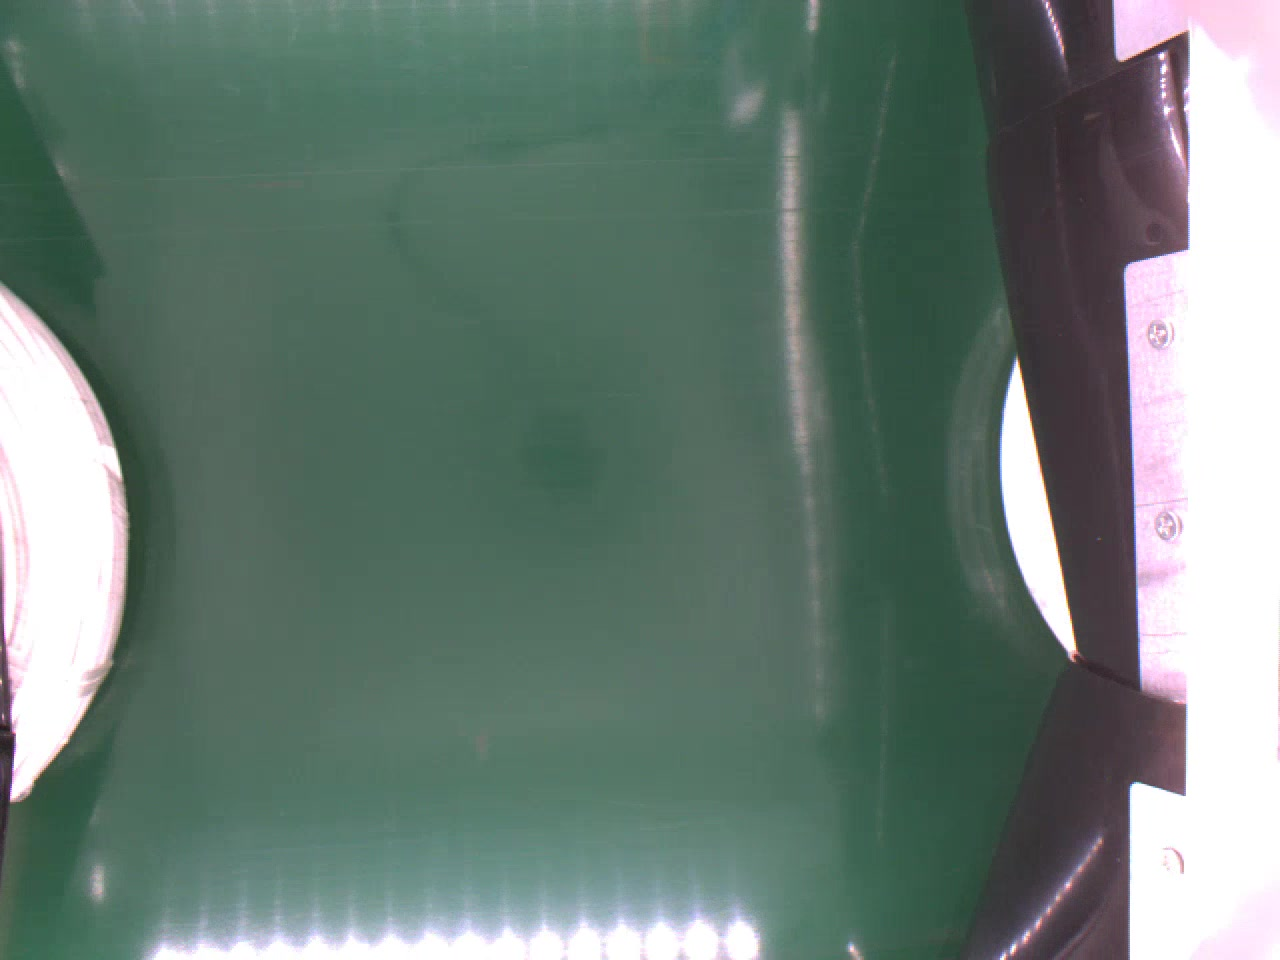white: (0, 281, 130, 801)
